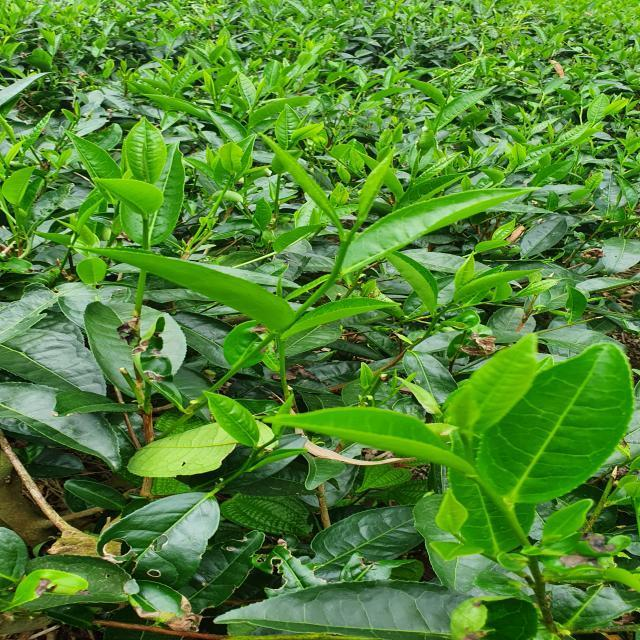Stem: (341, 238, 348, 249), (74, 234, 79, 239)
